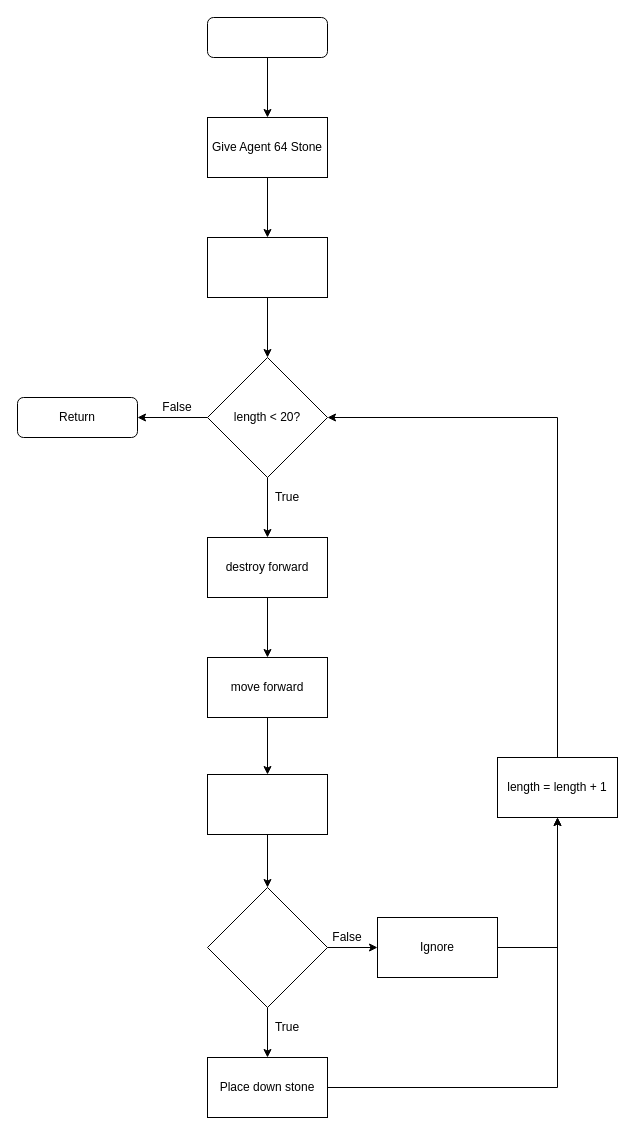
Image size: 635x1135. Some labels were removed from this diagram. The centre of each missing label's shape, as x and y in pixels:
"destroy up" belongs at [267,804].
"Is block below, lava or water or air?" belongs at [267,947].
"length = 0" belongs at [267,267].
"Start" belongs at [267,37].
